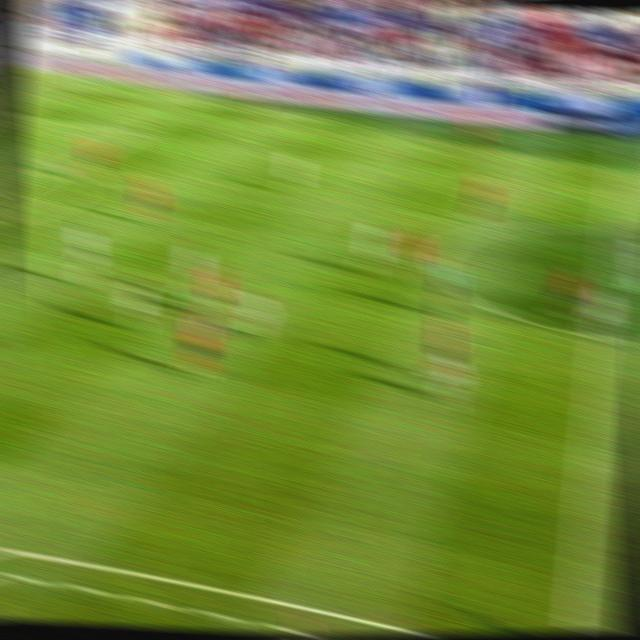bigarea_top_inner: (124, 121, 151, 143)
corner: (16, 69, 44, 87)
halfcircle_bottom: (584, 320, 618, 350)
halfcircle_top: (595, 216, 625, 241)
midline_top_intersection: (605, 135, 632, 159)
top_arc_area_intersection: (48, 155, 78, 177)
